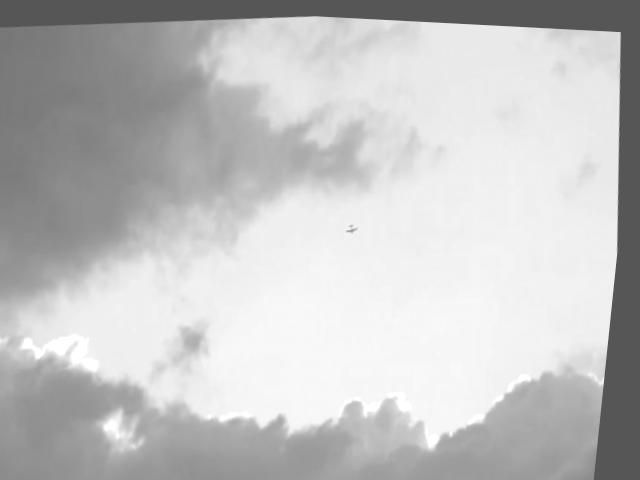hedef: (344, 211, 368, 239)
